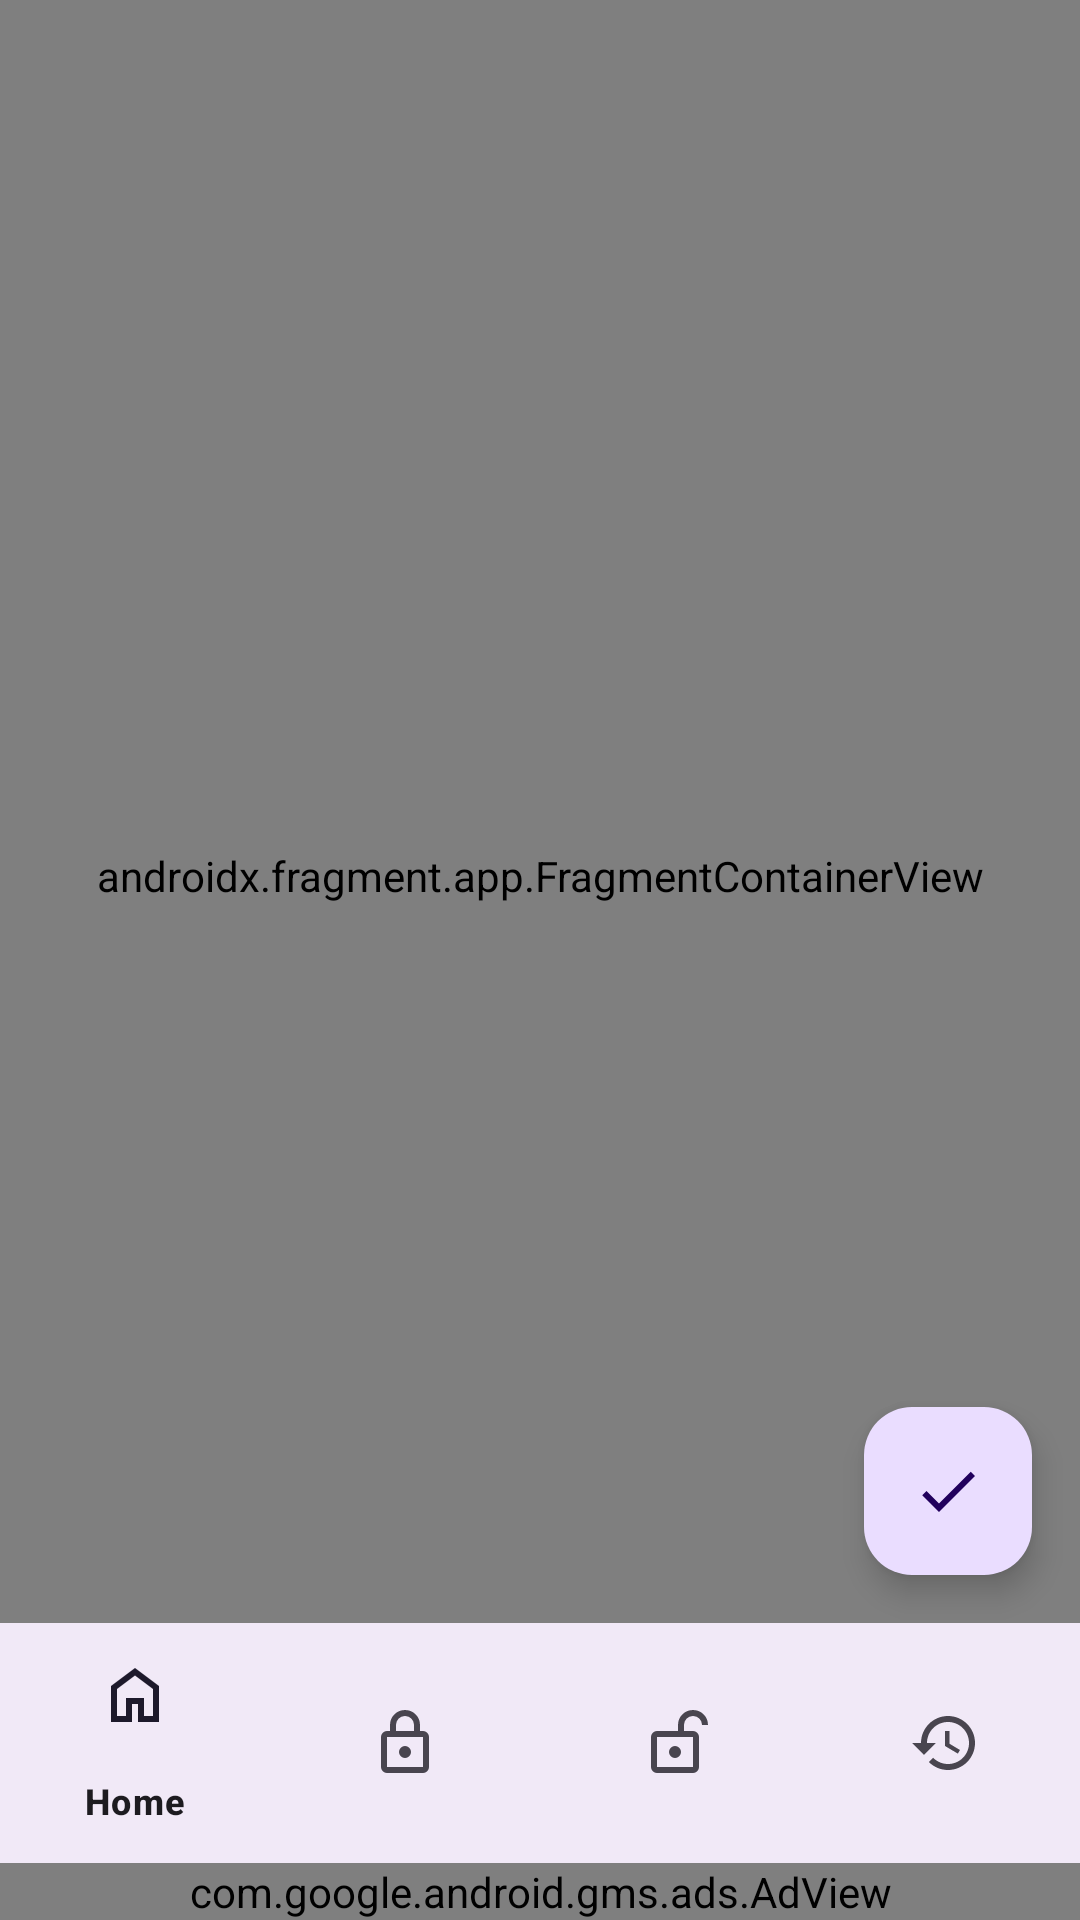

Screen size 1080w x 1920h. Icon name, then its box in pixels as (x1, y1, x2, y2):
check: (864, 1407, 1032, 1575)
